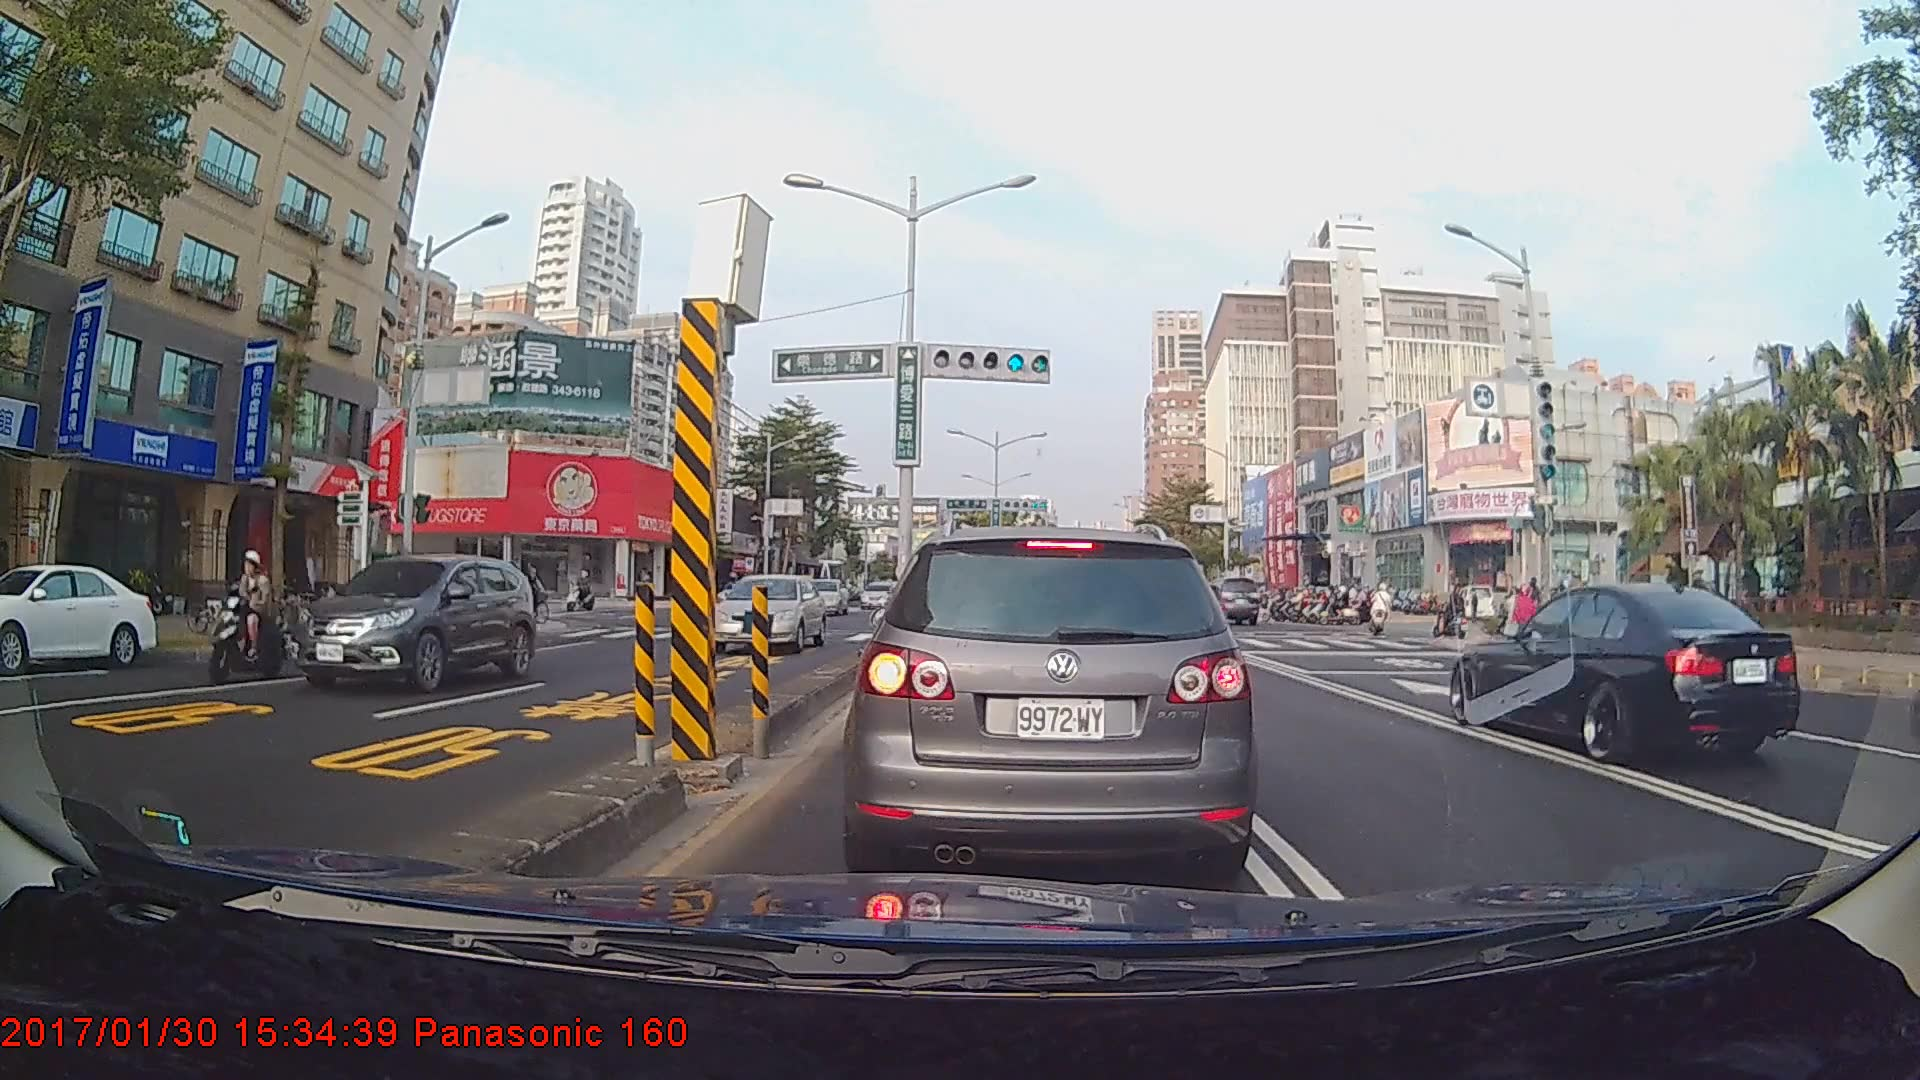rider: (202, 551, 288, 682), (410, 565, 477, 654), (1436, 582, 1473, 646), (1364, 582, 1400, 643), (563, 570, 602, 613)
vehicle: (852, 524, 1249, 880), (1452, 579, 1803, 771), (287, 552, 535, 694), (0, 561, 157, 671), (706, 571, 827, 655), (1209, 574, 1257, 625), (793, 576, 845, 617)
